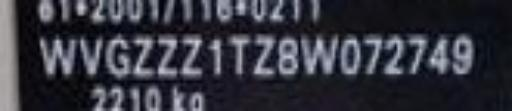letter: (36, 34, 80, 79), (298, 34, 338, 79), (130, 31, 158, 82), (102, 34, 132, 79), (180, 30, 206, 79), (156, 33, 182, 82), (274, 33, 300, 82), (425, 33, 449, 82), (252, 34, 278, 79), (338, 34, 362, 79), (382, 34, 406, 79), (77, 34, 101, 79), (226, 33, 250, 76), (406, 34, 428, 79), (452, 34, 474, 79), (360, 31, 380, 76), (208, 36, 222, 79)
